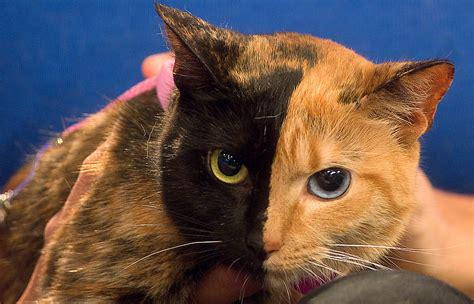cat: (1, 2, 455, 304)
